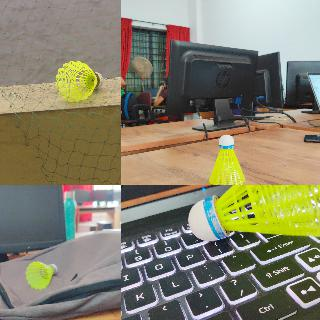shuttlecock: (188, 185, 319, 240), (209, 133, 246, 184), (56, 60, 102, 101), (24, 260, 58, 288)
